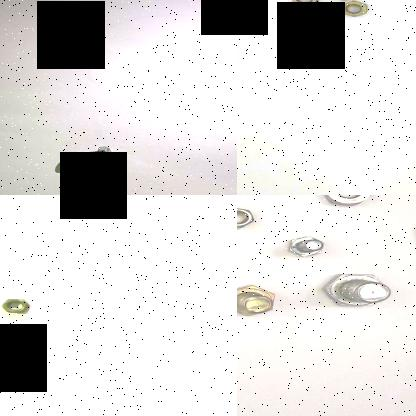Bolts: (320, 270, 400, 314), (237, 282, 287, 322), (282, 234, 331, 262), (61, 143, 119, 166)
NUTS: (316, 195, 384, 211), (0, 296, 37, 316), (308, 2, 335, 22), (341, 0, 368, 19), (237, 202, 255, 230), (288, 0, 320, 7)
